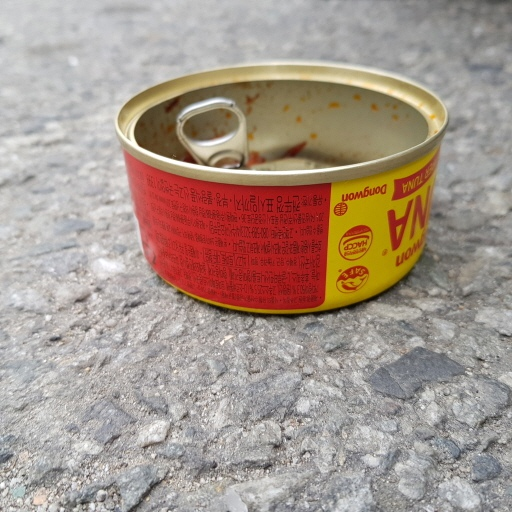Metal_1: (116, 61, 452, 317)
